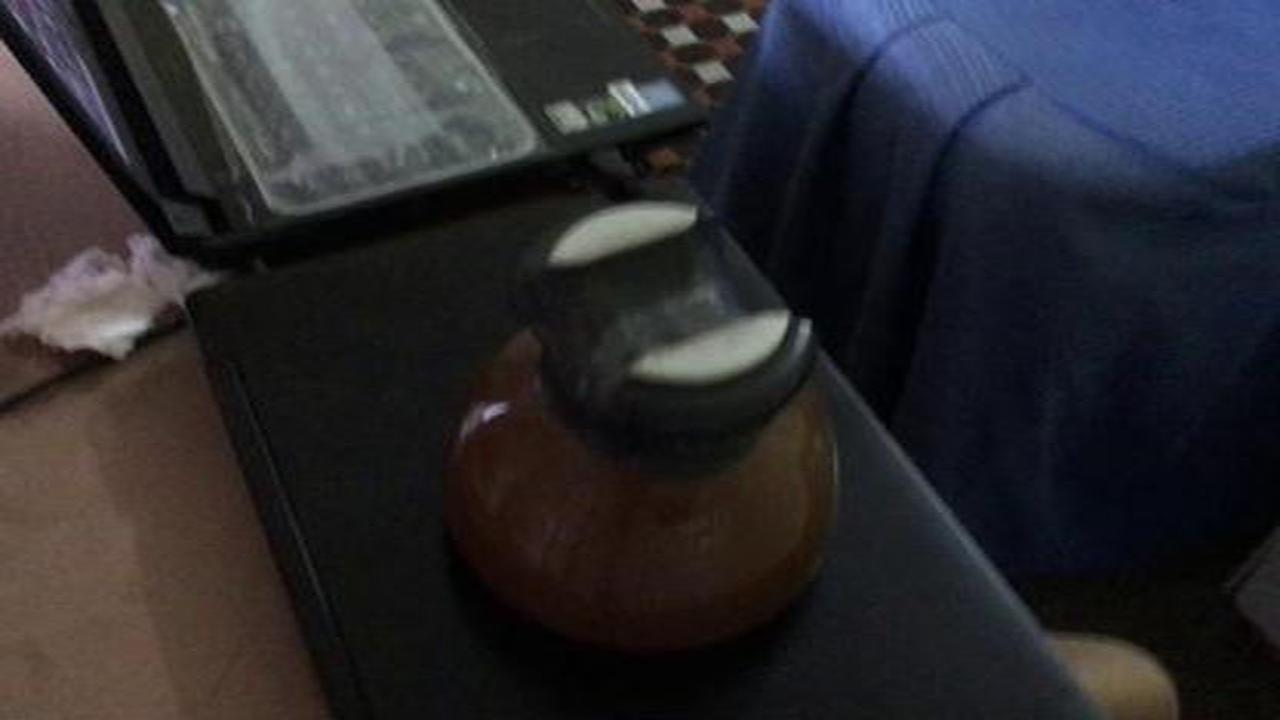insulator_pin: (422, 186, 877, 679)
